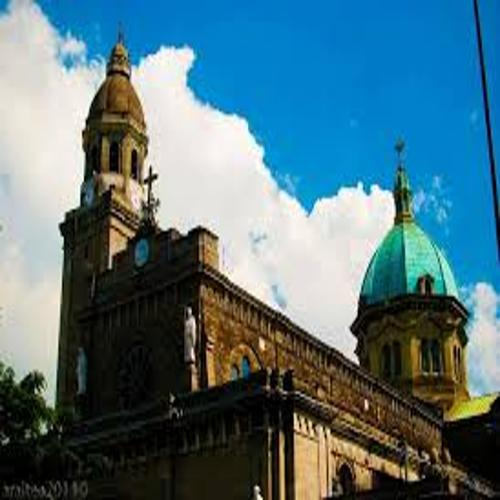Manila Cathedral Church: (21, 18, 477, 493)
